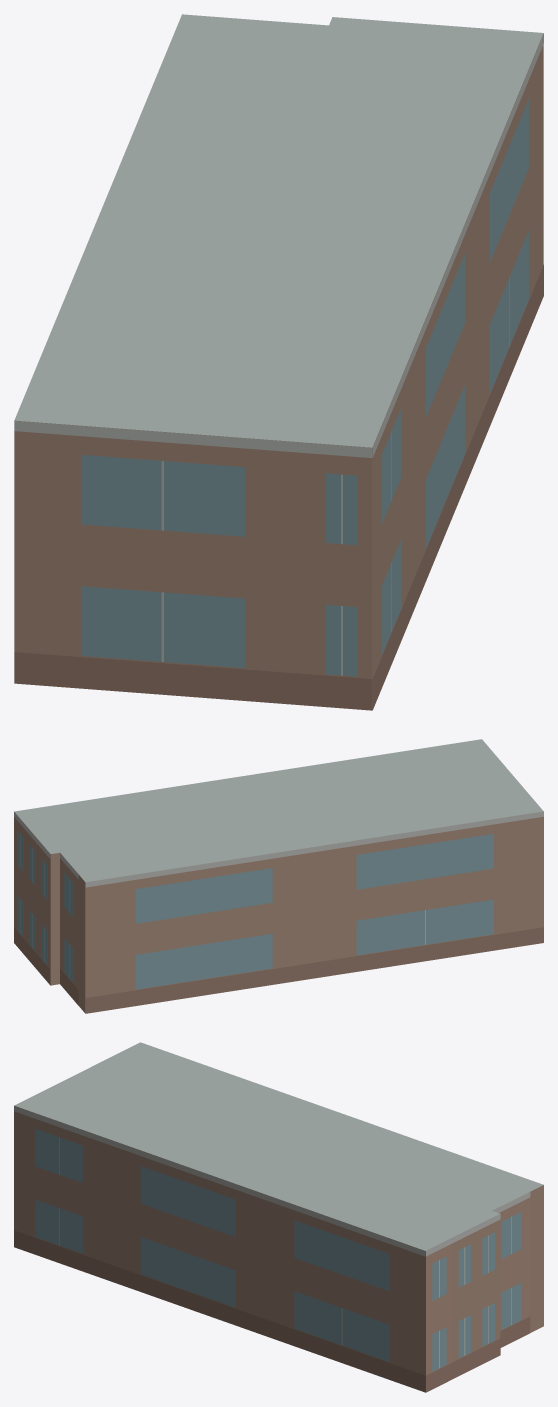
File: survey-upis-32700878.glb
The picture shows the model from 3 angles, top to bottom: view 1: azimuth 30°, elevation 25°; view 2: azimuth 150°, elevation 25°; view 3: azimuth 270°, elevation 25°; orthographic projection. The views are drawn at different scales.
Parts seen in each view (by area): view 1: survey-upis-32700878.tmp; view 2: survey-upis-32700878.tmp; view 3: survey-upis-32700878.tmp.
Part boxes in pixels (x1,y1,x2,y2): survey-upis-32700878.tmp: [14, 14, 543, 710]; survey-upis-32700878.tmp: [14, 739, 543, 1013]; survey-upis-32700878.tmp: [14, 1042, 543, 1392].
Size of the model in its own units: 19.3 by 6.1 by 20.69.
